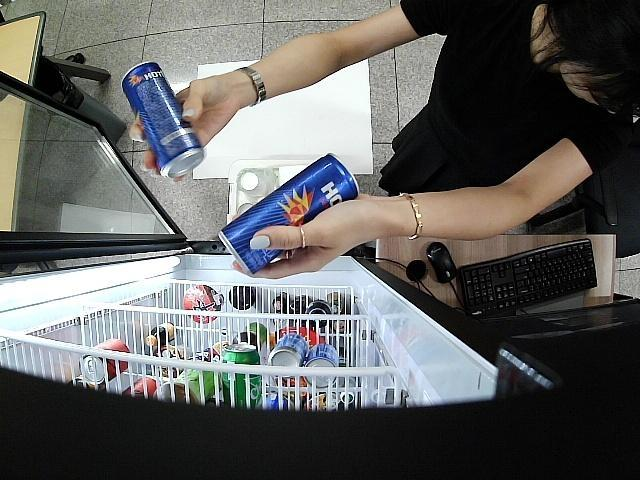16_hot6: (220, 153, 360, 275), (120, 57, 203, 179)
